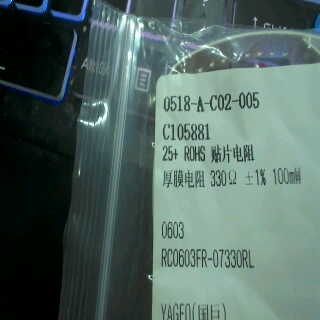330R: (208, 167, 239, 188)
